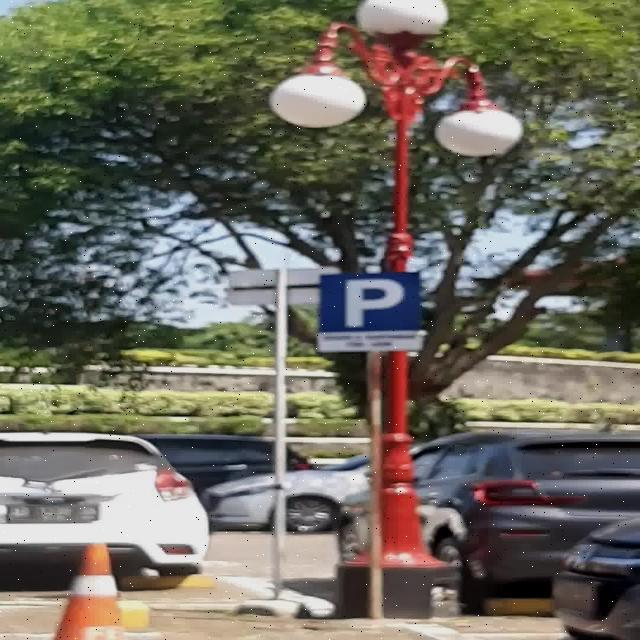Tempat Parkir: (318, 273, 421, 351)
